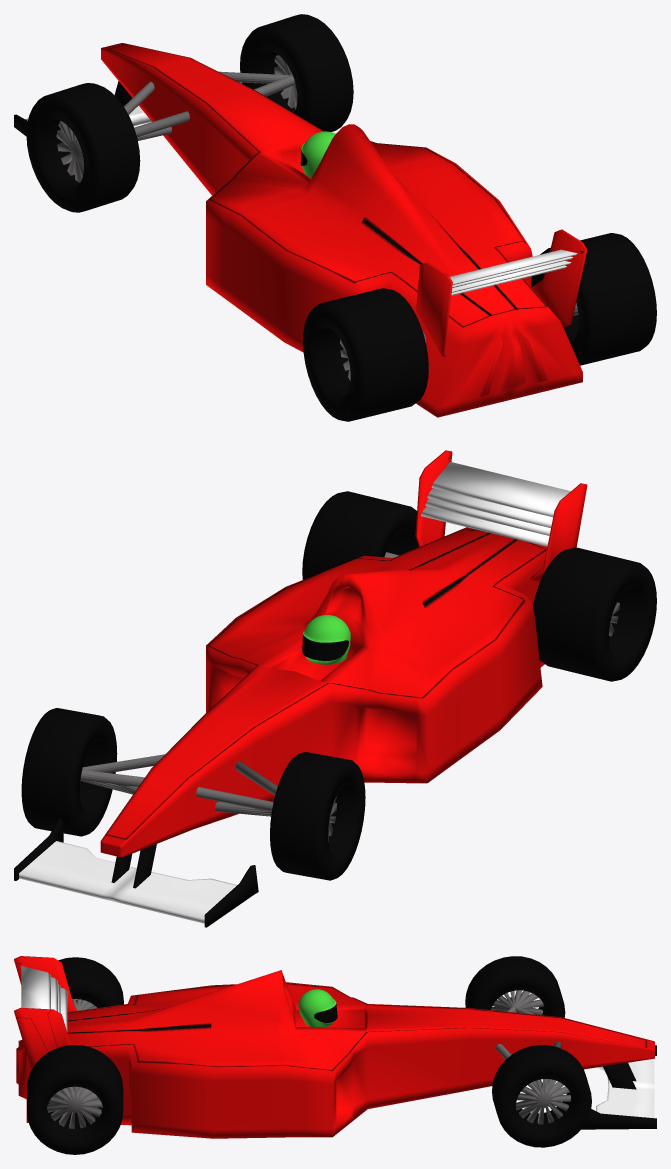
Rendered from F1MODELLeft.fbx.
3 views of the same model, one above another, from view 1: azimuth 30°, elevation 25°; view 2: azimuth 150°, elevation 25°; view 3: azimuth 270°, elevation 25° (orthographic). The views are drawn at different scales.
Parts seen in each view (by area): view 1: Chassis, RearWheels, Front_SteerLEFT, RearSpoilerSupport, Wheel_Rim_and_Axe_L, RearSpoilerBlades, Helmet; view 2: Chassis, RearWheels, Front_SteerLEFT, RearSpoilerBlades, Front_Spoiler, RearSpoilerSupport, Wheel_Rim_and_Axe_L, Front_SpoilerSupports, Helmet, Visor; view 3: Chassis, Front_SteerLEFT, RearWheels, RearSpoilerSupport, Wheel_Rim_and_Axe_L, Front_Spoiler, Wheel_Rim_and_Axel, RearSpoilerBlades, Front_SpoilerSupports, Helmet.
Part boxes in pixels (<box>): Chassis: <box>101,43,582,417</box>; RearWheels: <box>303,233,656,421</box>; Front_SteerLEFT: <box>26,14,353,212</box>; RearSpoilerSupport: <box>416,229,587,357</box>; Wheel_Rim_and_Axe_L: <box>56,55,297,182</box>; RearSpoilerBlades: <box>450,249,577,295</box>; Helmet: <box>301,131,335,177</box>; Chassis: <box>100,527,547,857</box>; RearWheels: <box>302,491,656,681</box>; Front_SteerLEFT: <box>21,708,365,880</box>; RearSpoilerBlades: <box>421,462,570,546</box>; Front_Spoiler: <box>19,841,236,923</box>; RearSpoilerSupport: <box>415,450,587,581</box>; Wheel_Rim_and_Axe_L: <box>80,754,337,841</box>; Front_SpoilerSupports: <box>14,819,258,927</box>; Helmet: <box>303,615,350,664</box>; Visor: <box>302,634,348,660</box>; Chassis: <box>16,970,654,1138</box>; Front_SteerLEFT: <box>465,956,591,1147</box>; RearWheels: <box>27,957,123,1154</box>; RearSpoilerSupport: <box>14,956,76,1069</box>; Wheel_Rim_and_Axe_L: <box>491,990,570,1124</box>; Front_Spoiler: <box>596,1058,654,1117</box>; Wheel_Rim_and_Axel: <box>47,999,103,1128</box>; RearSpoilerBlades: <box>21,966,67,1032</box>; Front_SpoilerSupports: <box>581,1045,656,1129</box>; Helmet: <box>298,989,336,1027</box>.
Bounding box in the file's own units: 5.64 × 2.98 × 13.53.
Materials: 9 (9 with a texture image).
